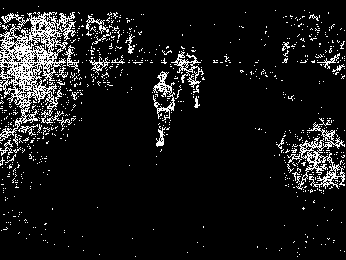person: (151, 70, 176, 153), (186, 52, 204, 107)
